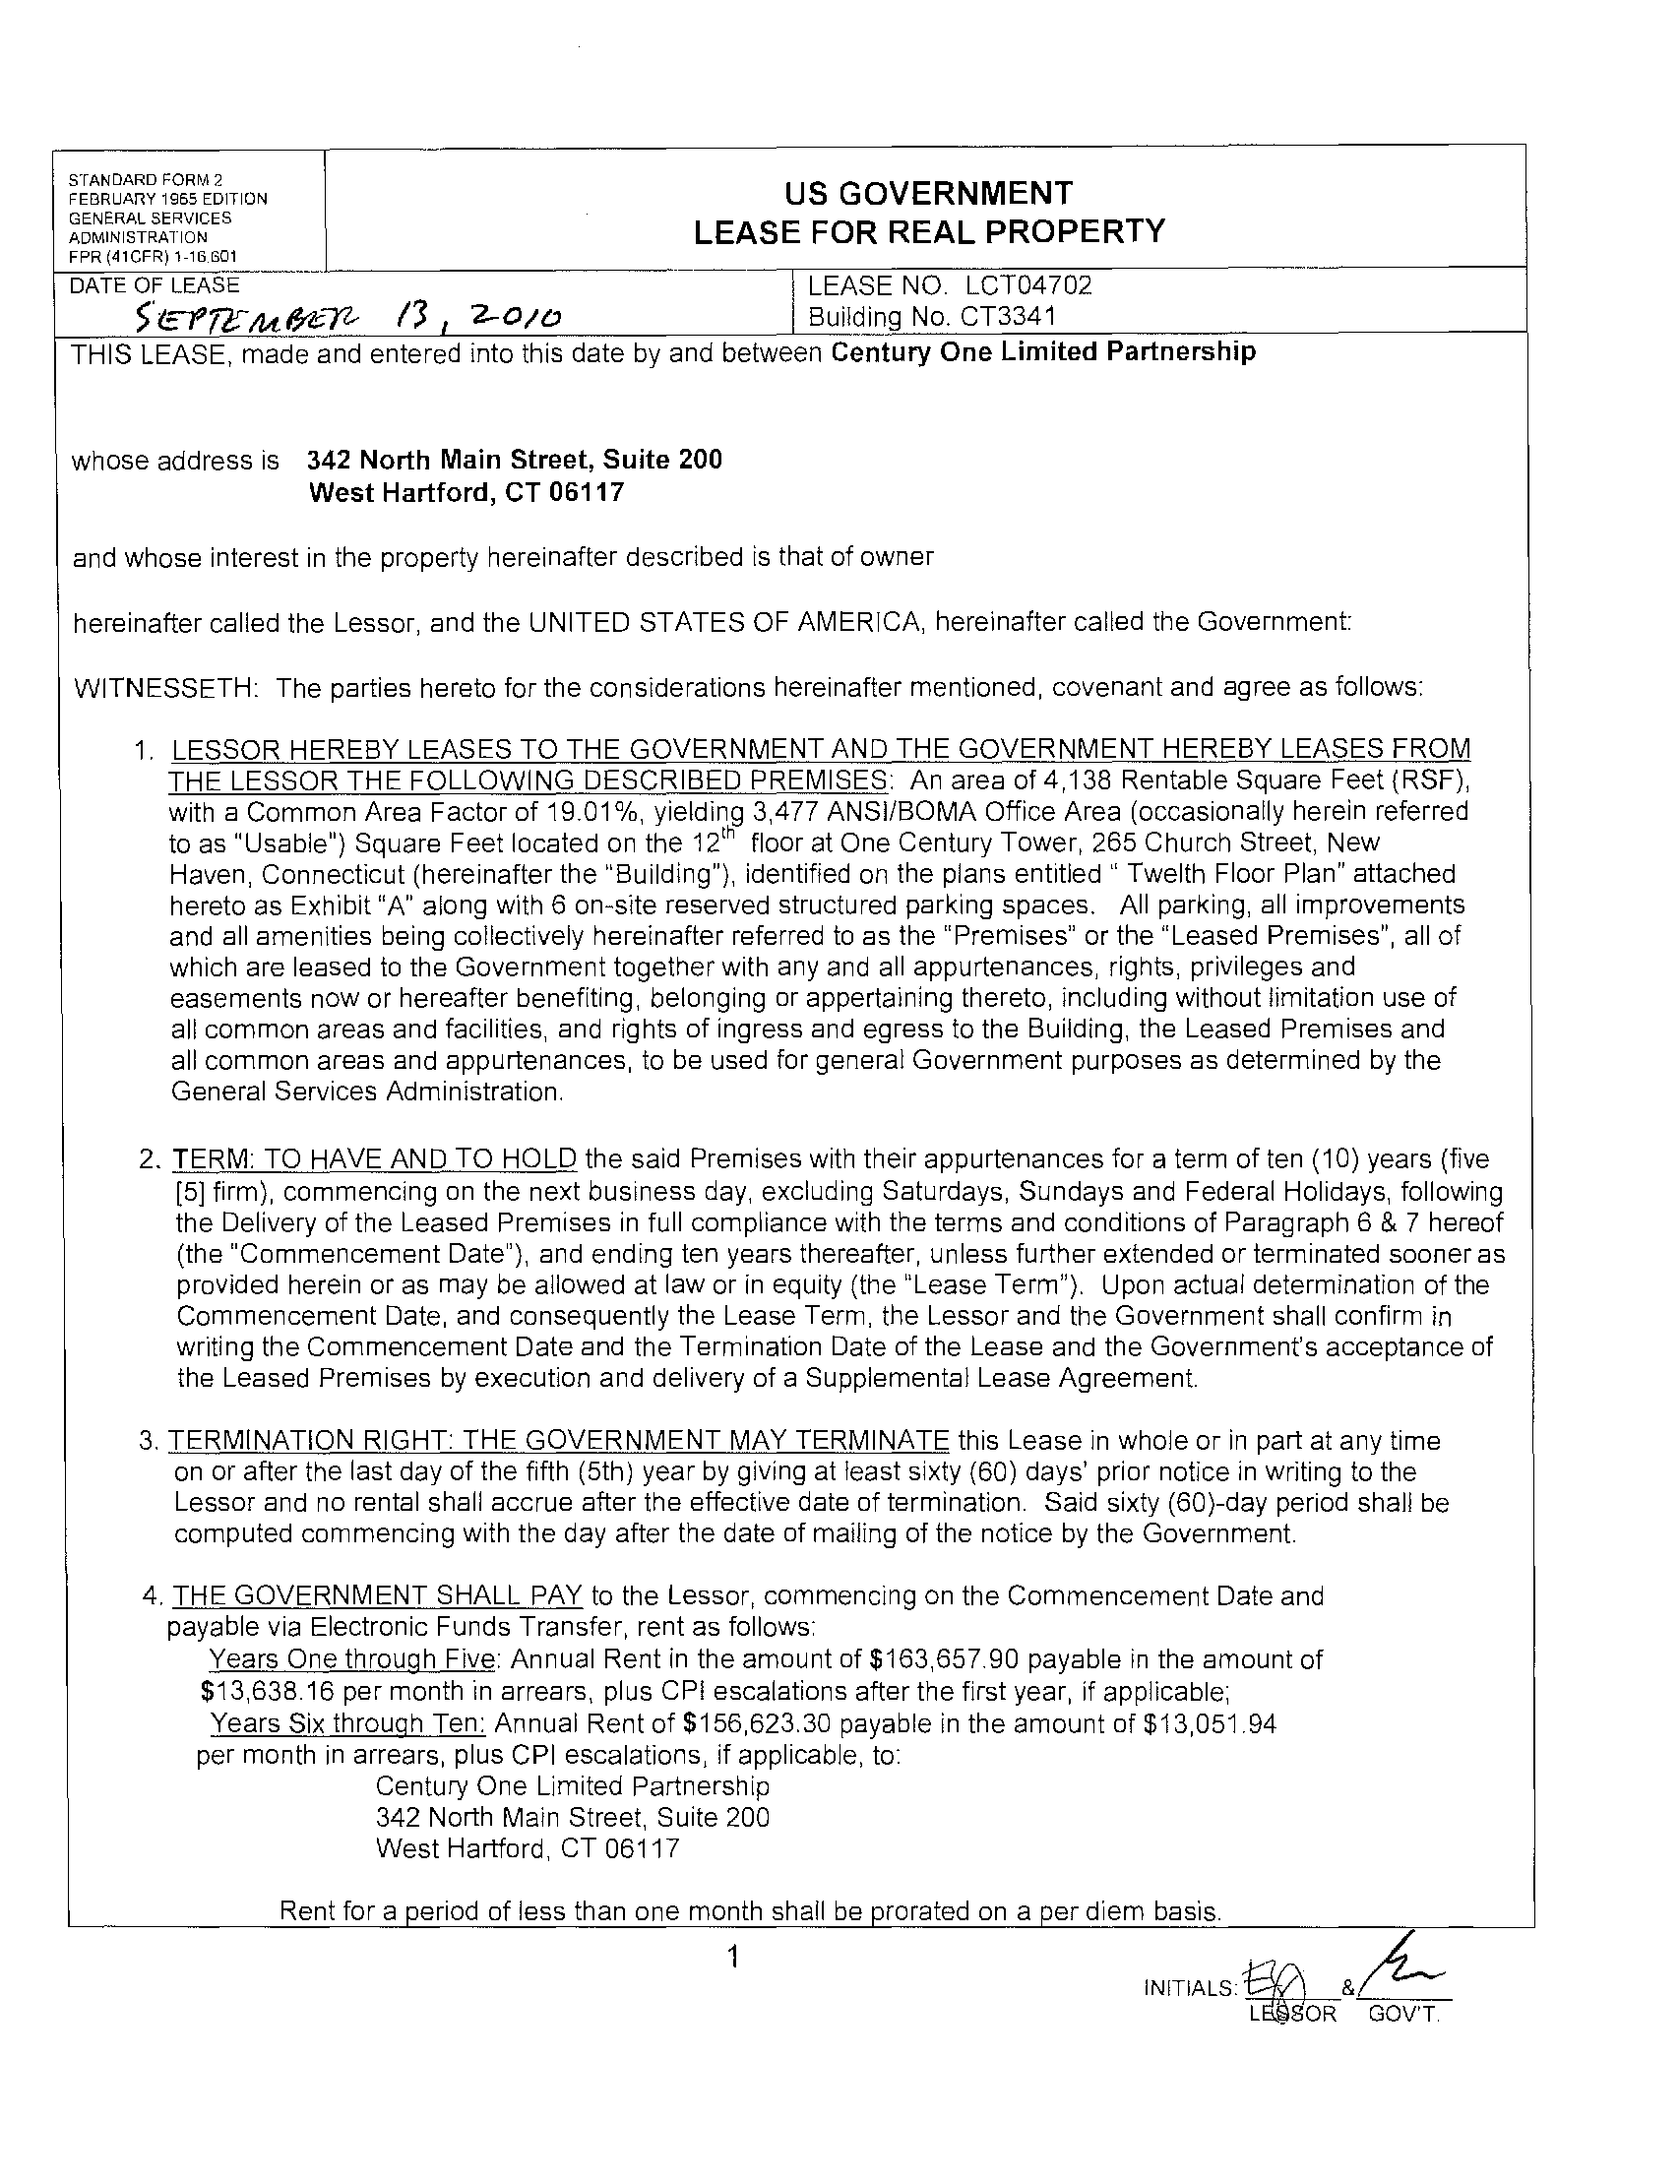handwritten: (113, 284, 593, 332), (1232, 1928, 1468, 1993)
